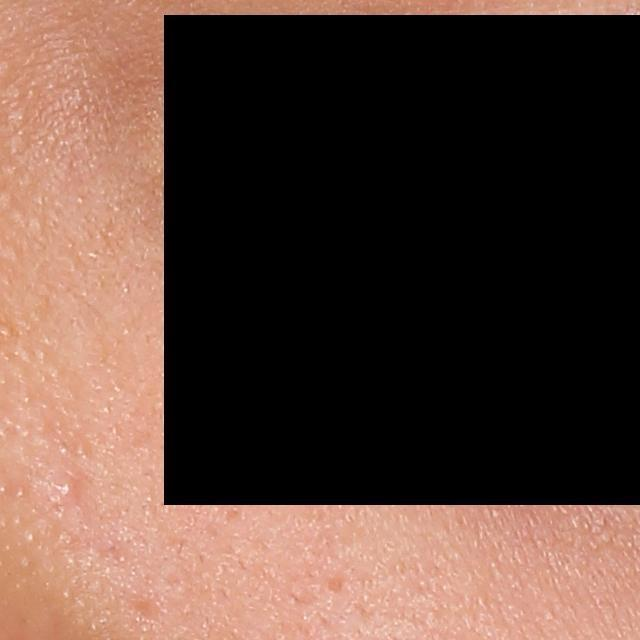papule: (53, 474, 83, 504)
